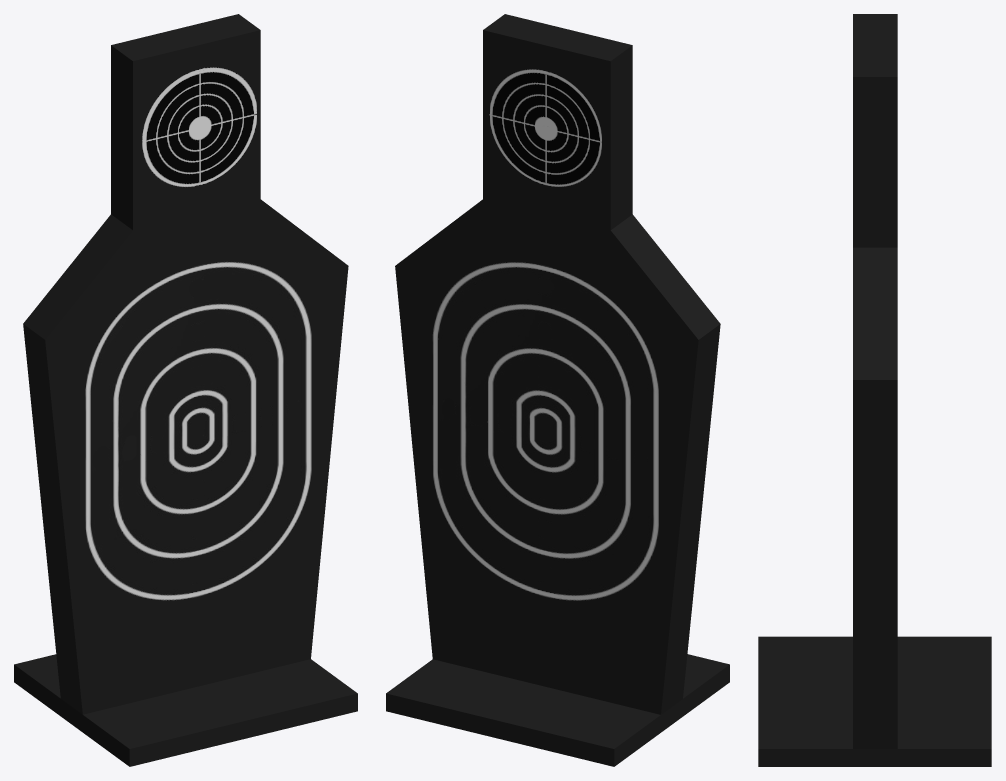
The model's file is Target.fbx.
3 renders of one model, left to right at view 1: azimuth 30°, elevation 25°; view 2: azimuth 150°, elevation 25°; view 3: azimuth 270°, elevation 25°, orthographic.
Parts seen in each view (by area): view 1: Cube; view 2: Cube; view 3: Cube.
Part boxes in pixels (x1,y1,x2,y2): Cube: (14,14,357,766); Cube: (386,14,729,766); Cube: (758,14,991,766).
Size of the model in its own units: 91.31 by 190 by 60.29.
1 material, 1 textured.
